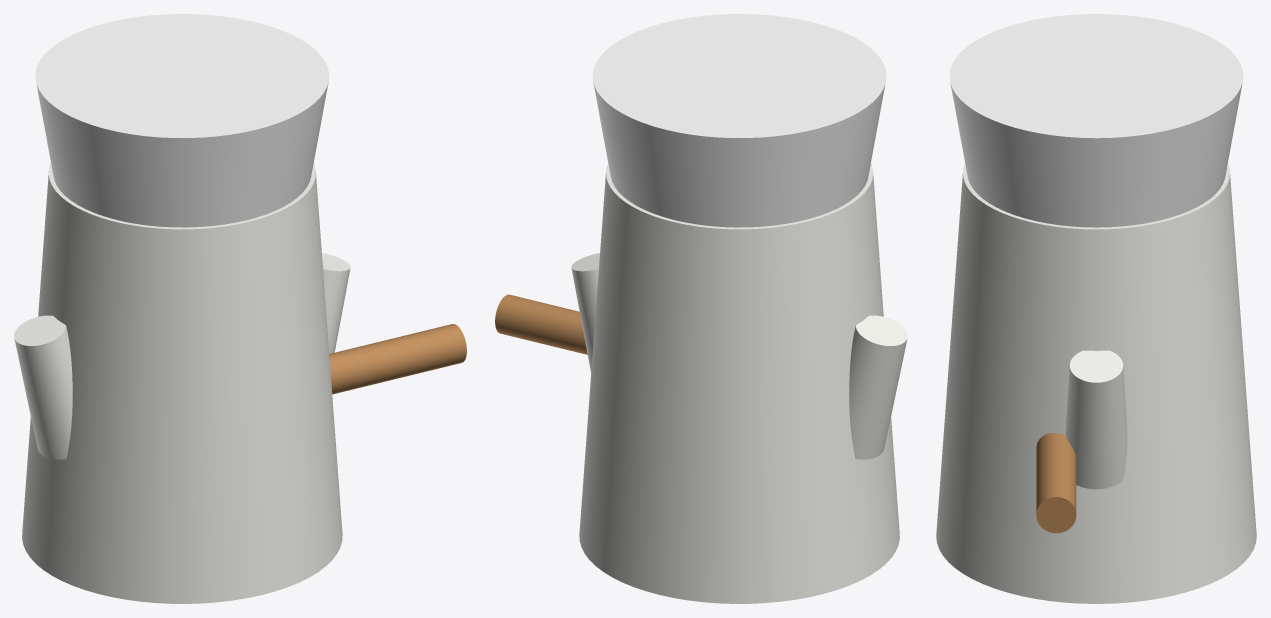
File: gordon_bleu.glb
The picture shows the model from 3 angles, left to right: view 1: azimuth 30°, elevation 25°; view 2: azimuth 150°, elevation 25°; view 3: azimuth 270°, elevation 25°; orthographic projection.
Visible parts, largest first — view 1: Body, Toque, LeftArm, RollingPin, RightArm; view 2: Body, Toque, LeftArm, RollingPin, RightArm; view 3: Body, Toque, RightArm, RollingPin.
Part boxes in pixels (left/top/right/bottom): Body: left=22, top=163, right=342, bottom=603; Toque: left=35, top=14, right=329, bottom=227; LeftArm: left=14, top=315, right=72, bottom=459; RollingPin: left=329, top=324, right=466, bottom=394; RightArm: left=322, top=253, right=350, bottom=353; Body: left=579, top=163, right=899, bottom=603; Toque: left=592, top=14, right=886, bottom=227; LeftArm: left=849, top=315, right=907, bottom=459; RollingPin: left=495, top=294, right=587, bottom=354; RightArm: left=571, top=253, right=599, bottom=373; Body: left=936, top=163, right=1256, bottom=603; Toque: left=949, top=14, right=1243, bottom=227; RightArm: left=1065, top=350, right=1127, bottom=489; RollingPin: left=1036, top=433, right=1076, bottom=533.
Bounding box in the file's own units: 3.62 × 3.8 × 2.4.
